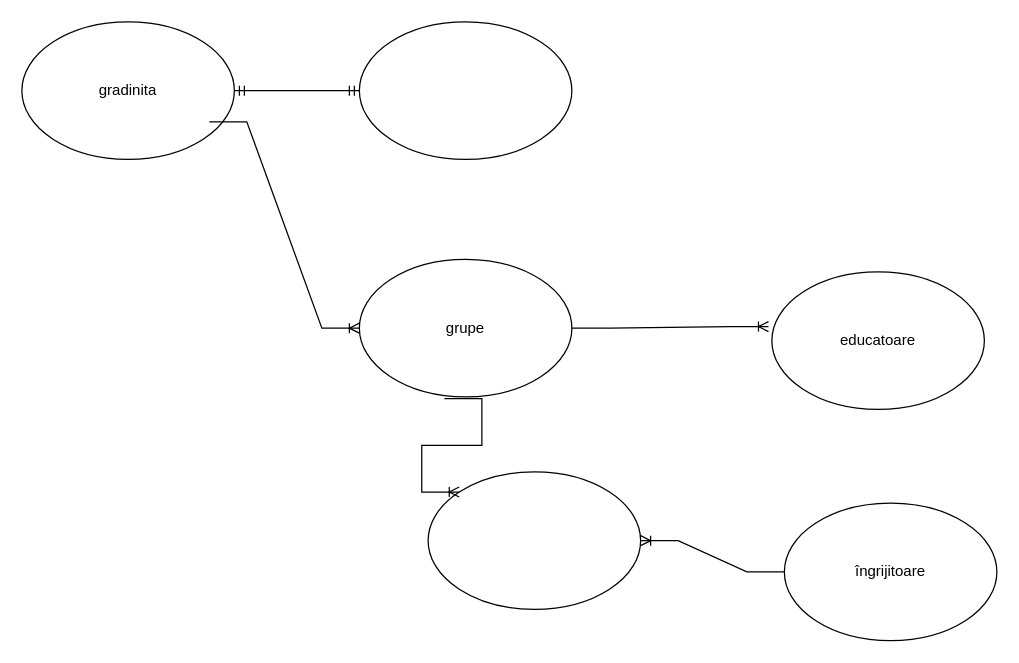
The diagram is 1019 pixels wide and 663 high, and some of its shapes have lost their labels. Here are the shapes that lost their labels. From the top down, the centre of each, then its label:
the point at 465,90: director
the point at 534,540: grupe_îngrijitoare
